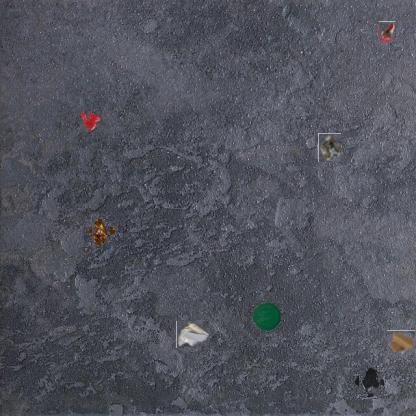dirty: (251, 300, 283, 332), (176, 320, 209, 348), (388, 329, 416, 356), (88, 219, 114, 245), (317, 134, 342, 161), (378, 23, 397, 41)
liquid: (356, 369, 383, 396), (80, 110, 102, 132)
